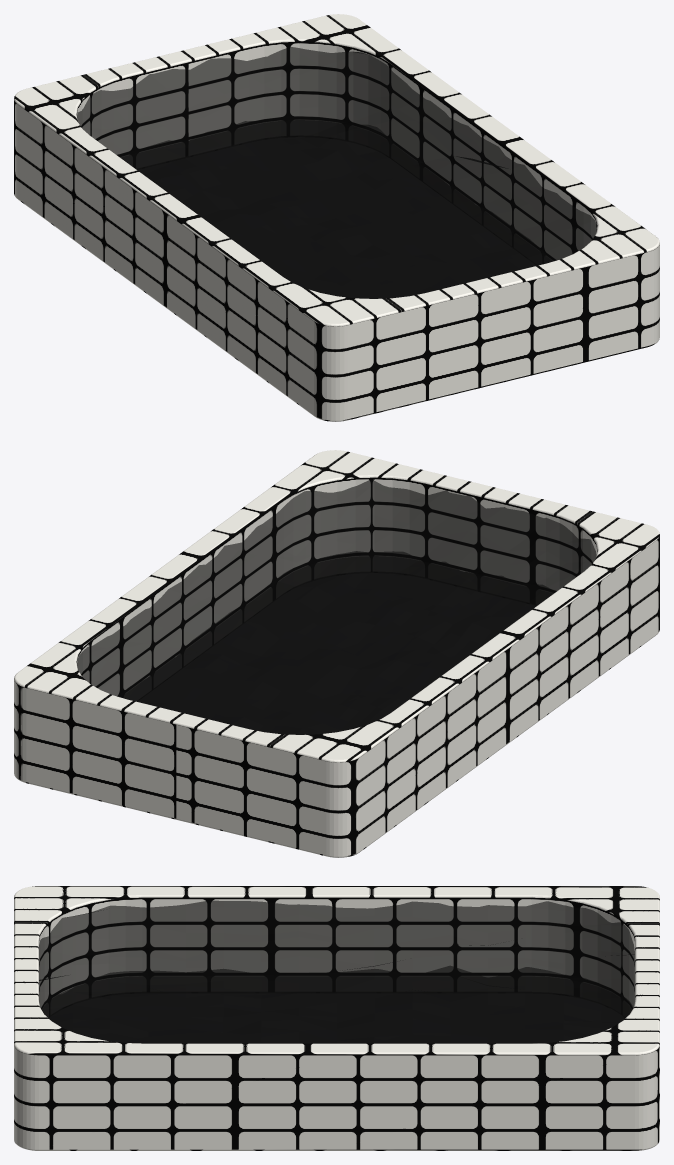
Rendered from pool.FBX.
3 renders of one model, top to bottom at view 1: azimuth 30°, elevation 25°; view 2: azimuth 150°, elevation 25°; view 3: azimuth 270°, elevation 25°, orthographic.
Parts seen in each view (by area): view 1: Pool; view 2: Pool; view 3: Pool.
Part boxes in pixels (x1,y1,x2,y2): Pool: (14, 14, 659, 421); Pool: (14, 450, 659, 857); Pool: (14, 886, 659, 1150).
Bounding box in the file's own units: 110 × 30.45 × 179.
